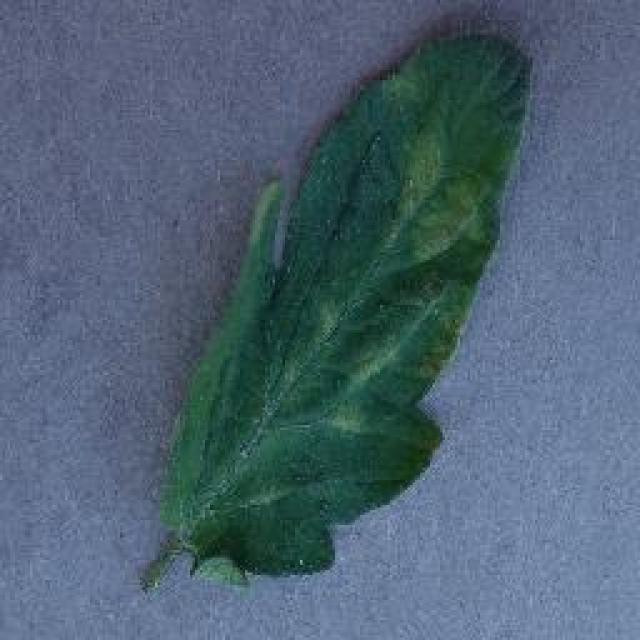Tom_Leaf_Mold: (359, 78, 490, 280)
